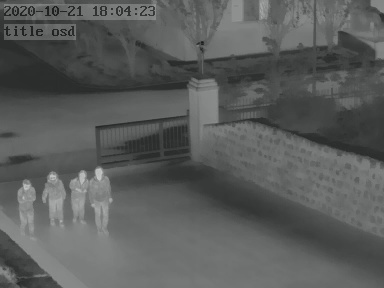person: (87, 166, 112, 234), (42, 168, 66, 228), (16, 177, 36, 235), (71, 167, 89, 225)
